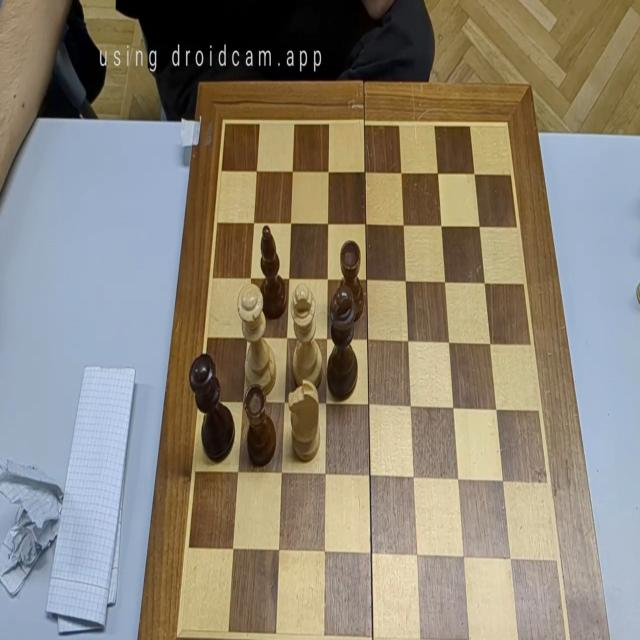black_bishop: (260, 226, 287, 320)
black_king: (327, 284, 358, 402)
black_queen: (189, 353, 235, 463)
black_rook: (244, 384, 276, 466), (340, 240, 364, 322)
white_king: (291, 283, 323, 390)
white_knight: (288, 379, 320, 462)
white_queen: (236, 283, 276, 396)
